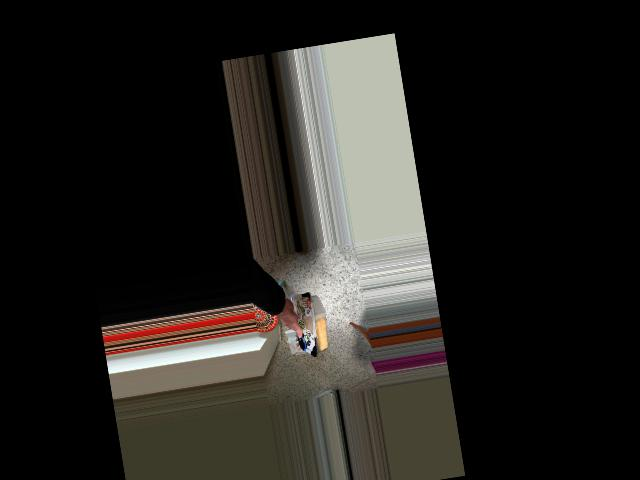cheese: (273, 280, 348, 364)
